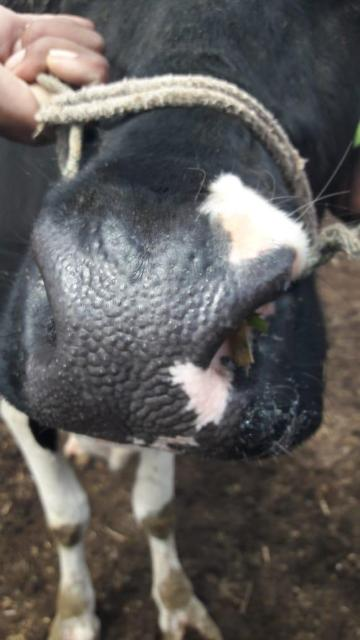Muzzle: (48, 245, 212, 430)
